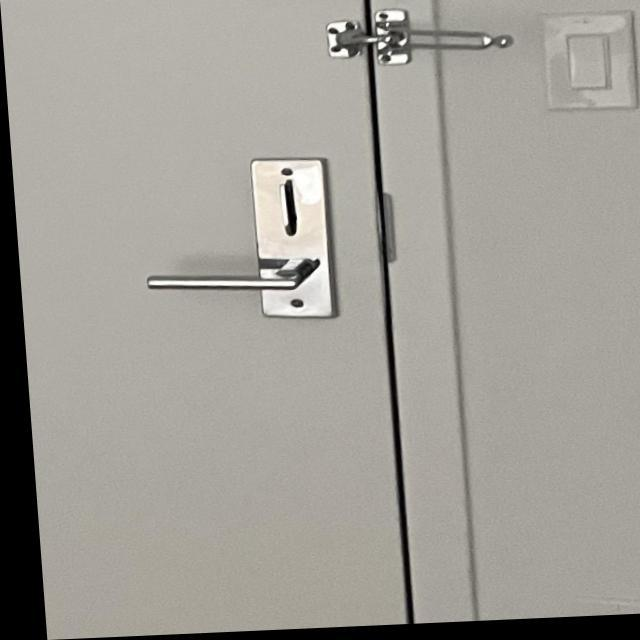door_handle: (126, 243, 343, 317)
